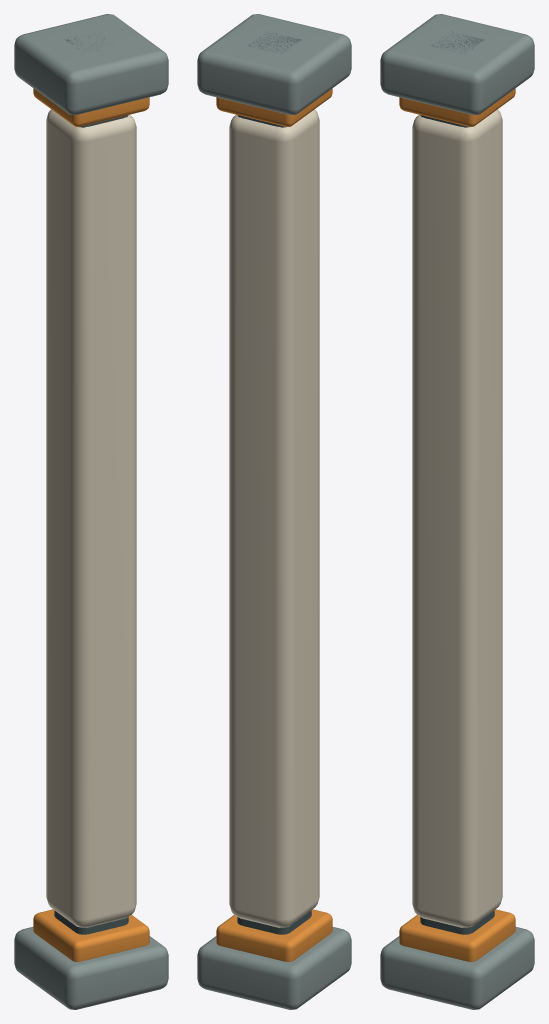
The model's file is support-column-2p8.glb.
3 views of the same model, side by side, from view 1: azimuth 30°, elevation 25°; view 2: azimuth 150°, elevation 25°; view 3: azimuth 330°, elevation 25° (orthographic).
Parts seen in each view (by area): view 1: support-column-2p8 / 01 • warm porcelain paint, support-column-2p8 / 05 • brushed titanium, support-column-2p8 / 03 • ochre enamel, support-column-2p8 / 06 • dark anodized frame; view 2: support-column-2p8 / 01 • warm porcelain paint, support-column-2p8 / 05 • brushed titanium, support-column-2p8 / 03 • ochre enamel, support-column-2p8 / 06 • dark anodized frame; view 3: support-column-2p8 / 01 • warm porcelain paint, support-column-2p8 / 05 • brushed titanium, support-column-2p8 / 03 • ochre enamel, support-column-2p8 / 06 • dark anodized frame.
Boxes of the visible parts, x1=… form: support-column-2p8 / 01 • warm porcelain paint: x1=46, y1=109, x2=136, y2=927; support-column-2p8 / 05 • brushed titanium: x1=14, y1=14, x2=168, y2=1009; support-column-2p8 / 03 • ochre enamel: x1=33, y1=88, x2=149, y2=961; support-column-2p8 / 06 • dark anodized frame: x1=54, y1=35, x2=128, y2=934; support-column-2p8 / 01 • warm porcelain paint: x1=229, y1=109, x2=319, y2=927; support-column-2p8 / 05 • brushed titanium: x1=197, y1=14, x2=351, y2=1009; support-column-2p8 / 03 • ochre enamel: x1=216, y1=88, x2=332, y2=961; support-column-2p8 / 06 • dark anodized frame: x1=237, y1=31, x2=311, y2=934; support-column-2p8 / 01 • warm porcelain paint: x1=412, y1=109, x2=502, y2=927; support-column-2p8 / 05 • brushed titanium: x1=380, y1=14, x2=534, y2=1009; support-column-2p8 / 03 • ochre enamel: x1=399, y1=88, x2=515, y2=961; support-column-2p8 / 06 • dark anodized frame: x1=420, y1=31, x2=494, y2=934.
Bounding box in the file's own units: 0.32 × 2.8 × 0.32.
